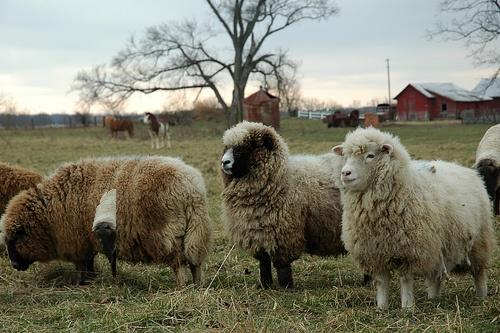tampered: (93, 190, 116, 277)
